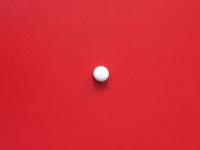Yuvarlak Buskopan: (91, 64, 111, 83)
